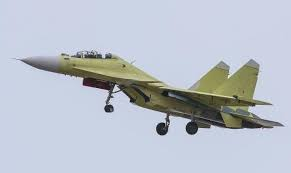maybay_muctieu: (17, 42, 286, 133)
